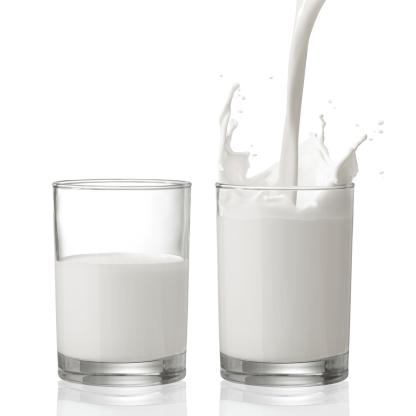milk: (214, 150, 355, 389), (48, 176, 189, 384)
